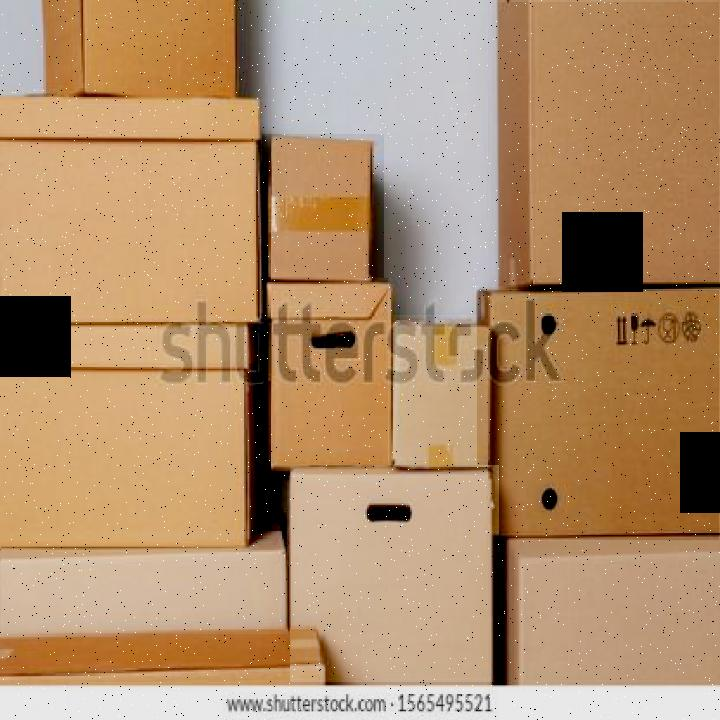box: (0, 317, 263, 562), (0, 93, 270, 328), (498, 3, 719, 286), (477, 290, 719, 542), (290, 466, 499, 684), (505, 540, 719, 685), (1, 532, 288, 636), (264, 278, 388, 480), (41, 4, 243, 102), (262, 134, 384, 285), (393, 315, 495, 471)
